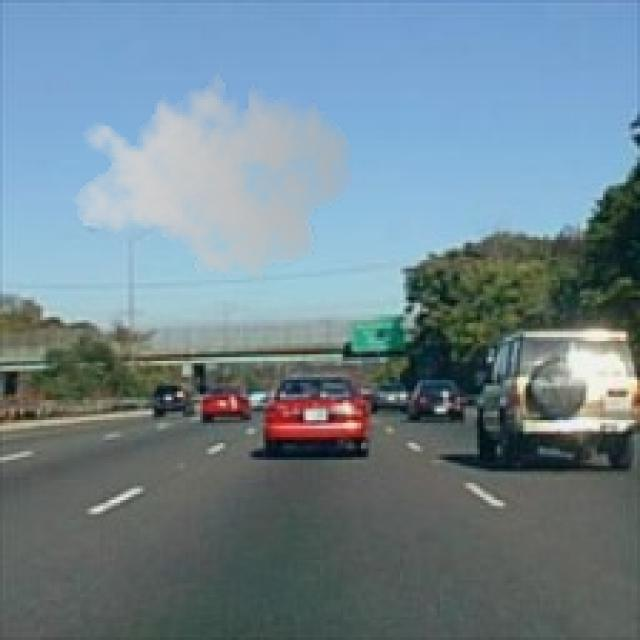smoke: (72, 63, 354, 288)
